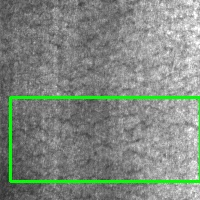crazing: (10, 97, 200, 181)
